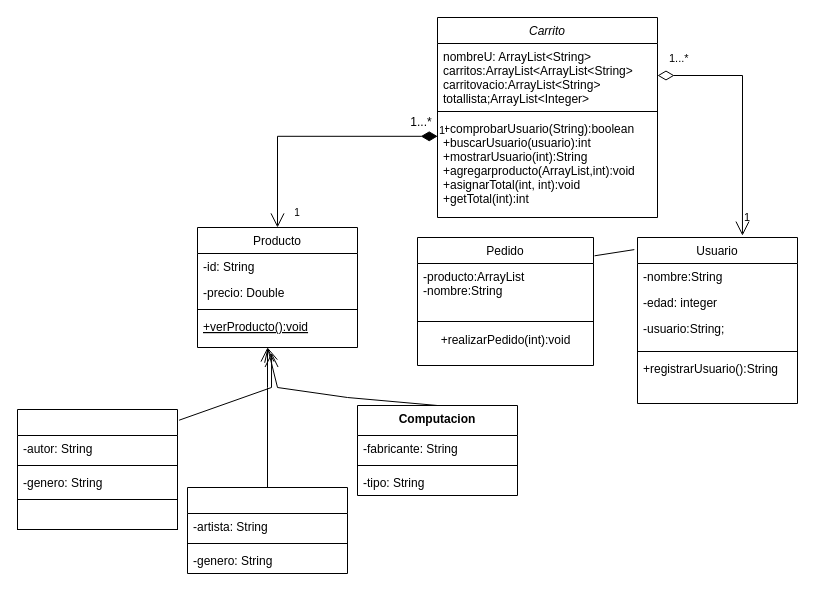
Some shapes in this 815 by 594 pixel diagram are drawn without their labels. Here are the shapes that lost their labels. From the top down, the box of each, then its label:
(16, 408, 178, 500): Literatura
(16, 498, 178, 530): -titulo: String
(186, 486, 348, 574): Musica
